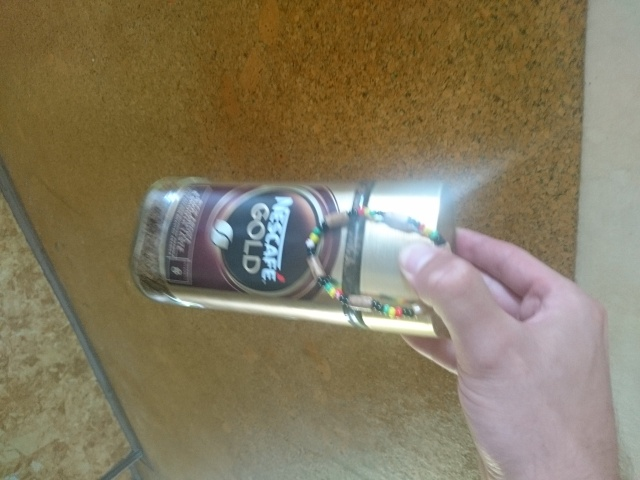Nescafe Gold 225g: (124, 173, 460, 343)
